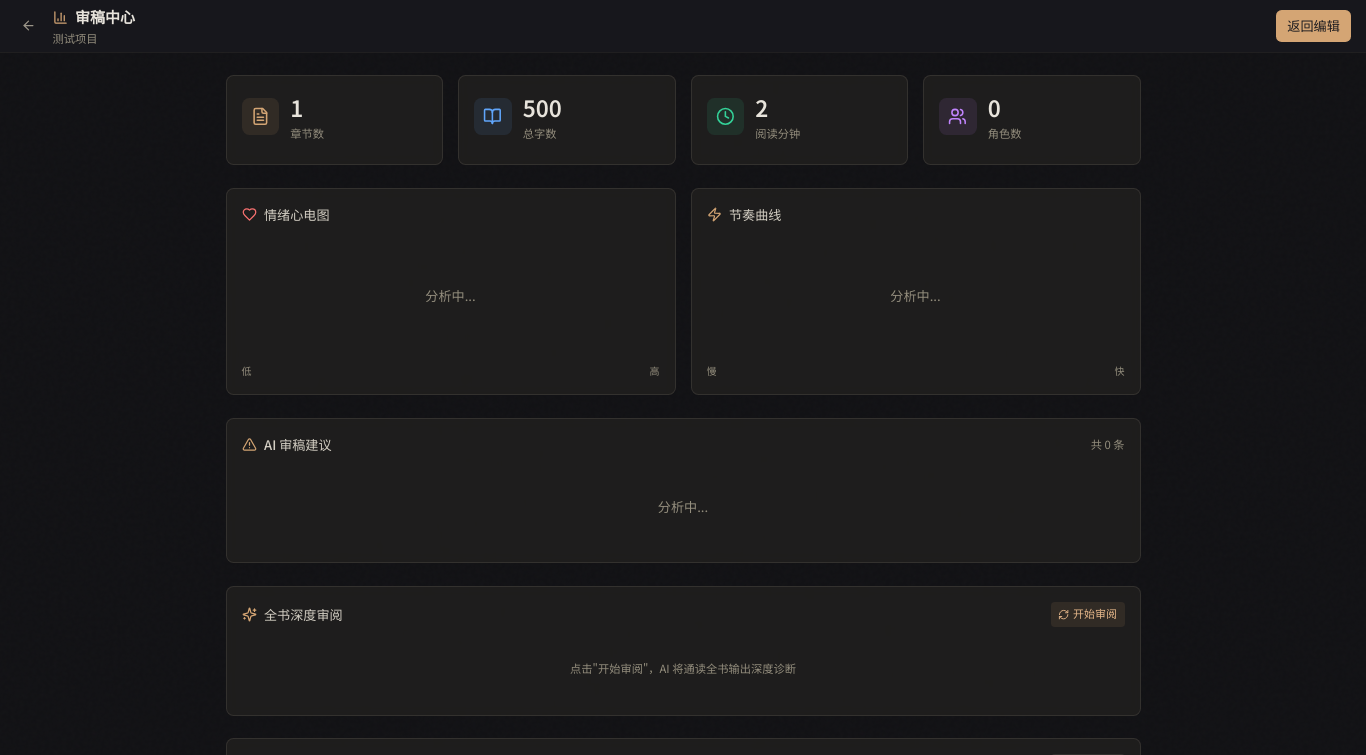
Test: ReviewPage › 审阅无 issues 时显示"✨ 全书节奏与一致性良好"
This screenshot has width=1366, height=755.
Click the button "开始审阅" at point(1088, 614), box [1050, 602, 1124, 627]
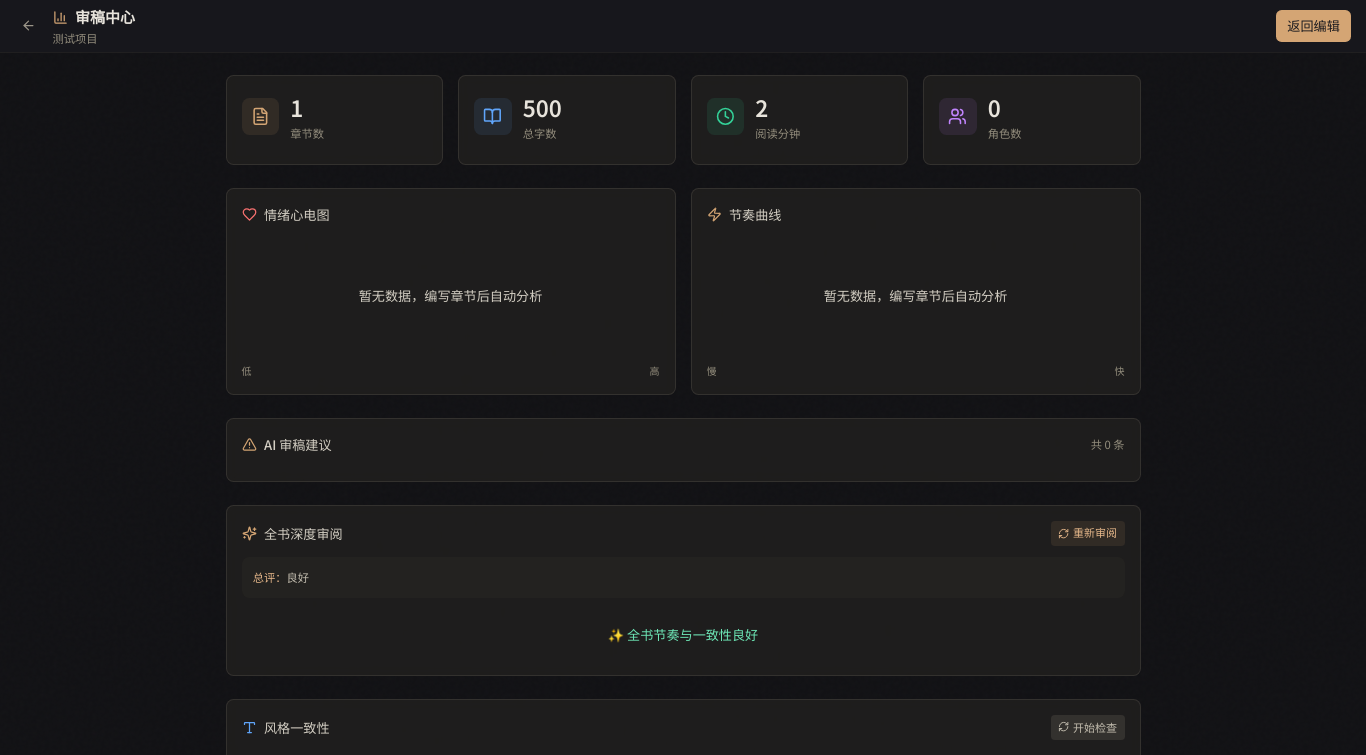
Check: the text "✨ 全书节奏与一致性良好" is shown, box [608, 625, 758, 644]
